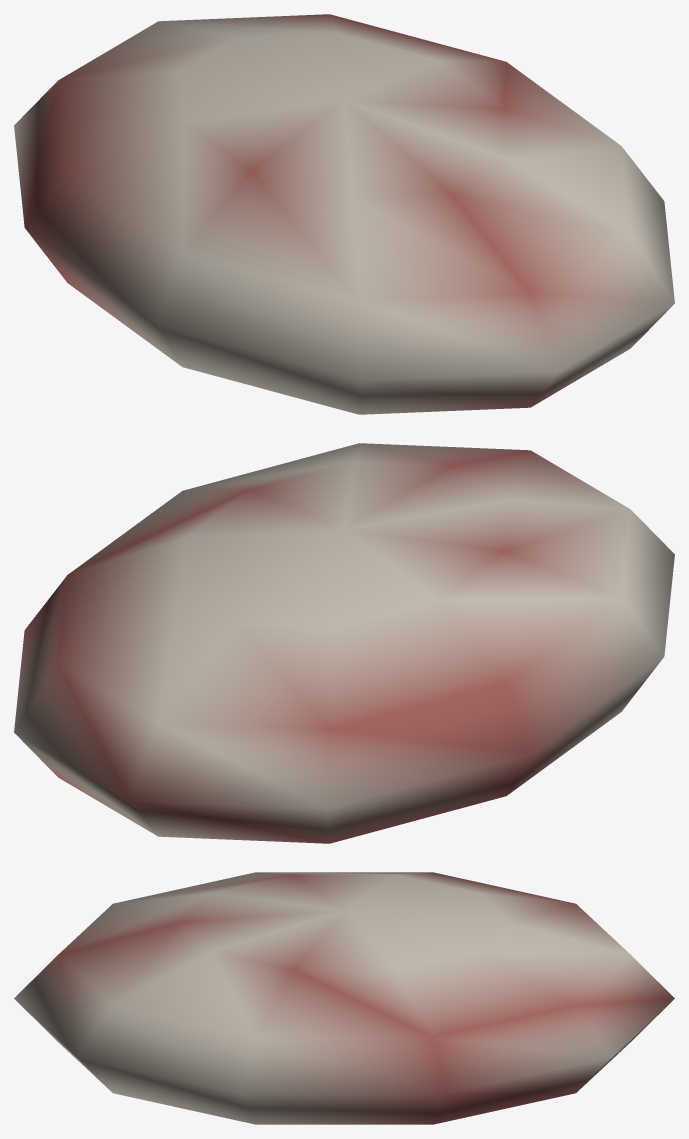
The model's file is wear_socks.glb.
3 views of the same model, one above another, from view 1: azimuth 30°, elevation 25°; view 2: azimuth 150°, elevation 25°; view 3: azimuth 270°, elevation 25° (orthographic). The views are drawn at different scales.
Parts seen in each view (by area): view 1: Item; view 2: Item; view 3: Item.
Boxes of the visible parts, <box> form: Item: <box>14,14,674,414</box>; Item: <box>14,443,674,843</box>; Item: <box>14,872,674,1124</box>.
Bounding box in the file's own units: 0.3024 × 0.13 × 0.444.
